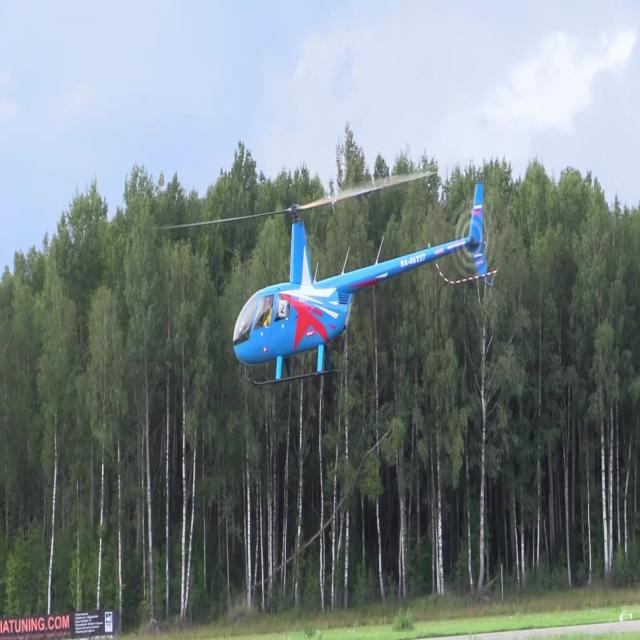CIV_HELO: (232, 180, 492, 390)
